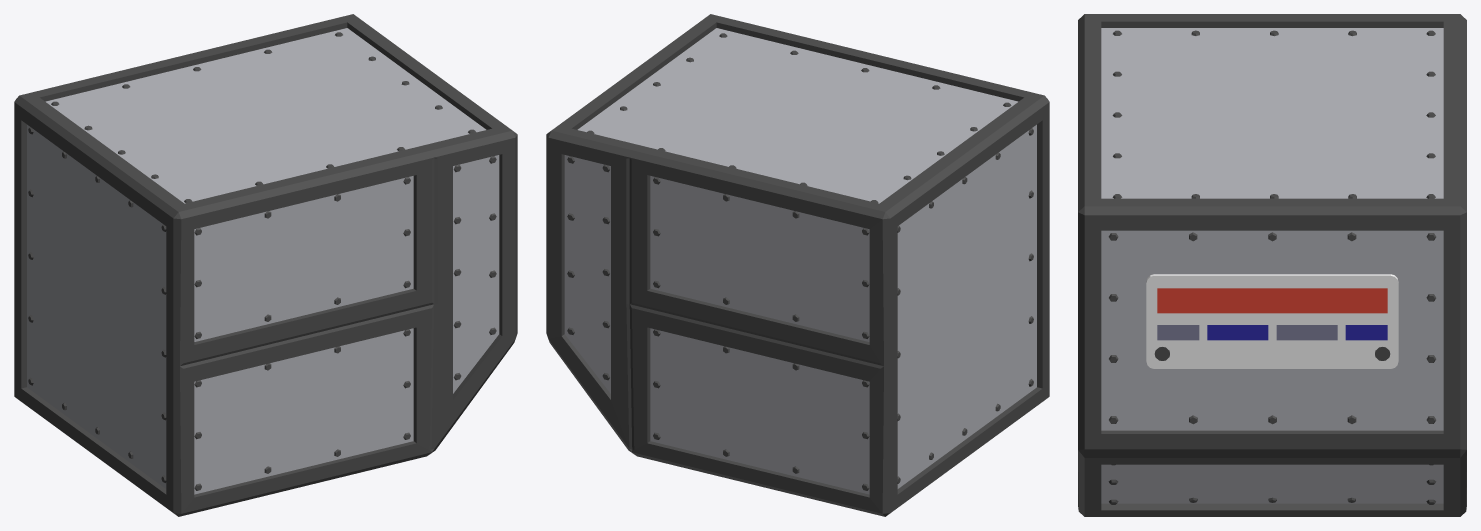
Rendered from airport-cargo-container-1.glb.
3 renders of one model, left to right at view 1: azimuth 30°, elevation 25°; view 2: azimuth 150°, elevation 25°; view 3: azimuth 270°, elevation 25°, orthographic. The views are drawn at different scales.
Visible parts, largest first — view 1: 05.Container_AIRPORT_0; view 2: 05.Container_AIRPORT_0; view 3: 05.Container_AIRPORT_0.
Boxes of the visible parts, x1,y1,x2,y2 form: 05.Container_AIRPORT_0: (14, 14, 517, 516); 05.Container_AIRPORT_0: (546, 14, 1049, 516); 05.Container_AIRPORT_0: (1078, 14, 1466, 516).
Bounding box in the file's own units: 4.48 × 3.79 × 3.72.
1 material, 1 textured.
